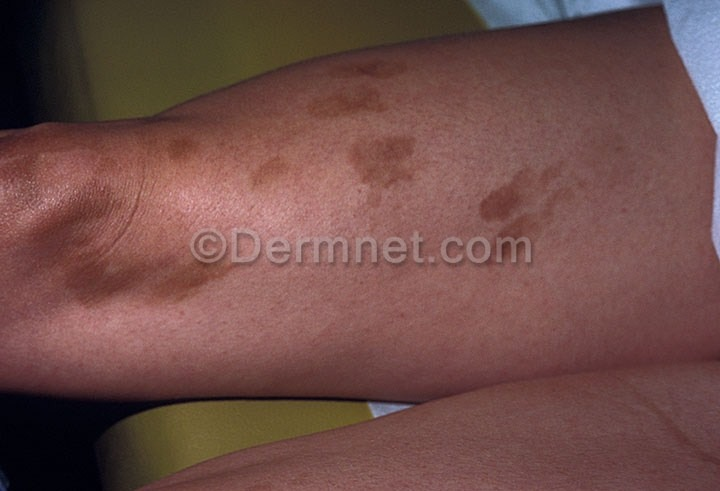Melasma: (299, 56, 464, 217), (50, 256, 230, 325), (476, 151, 573, 234)
